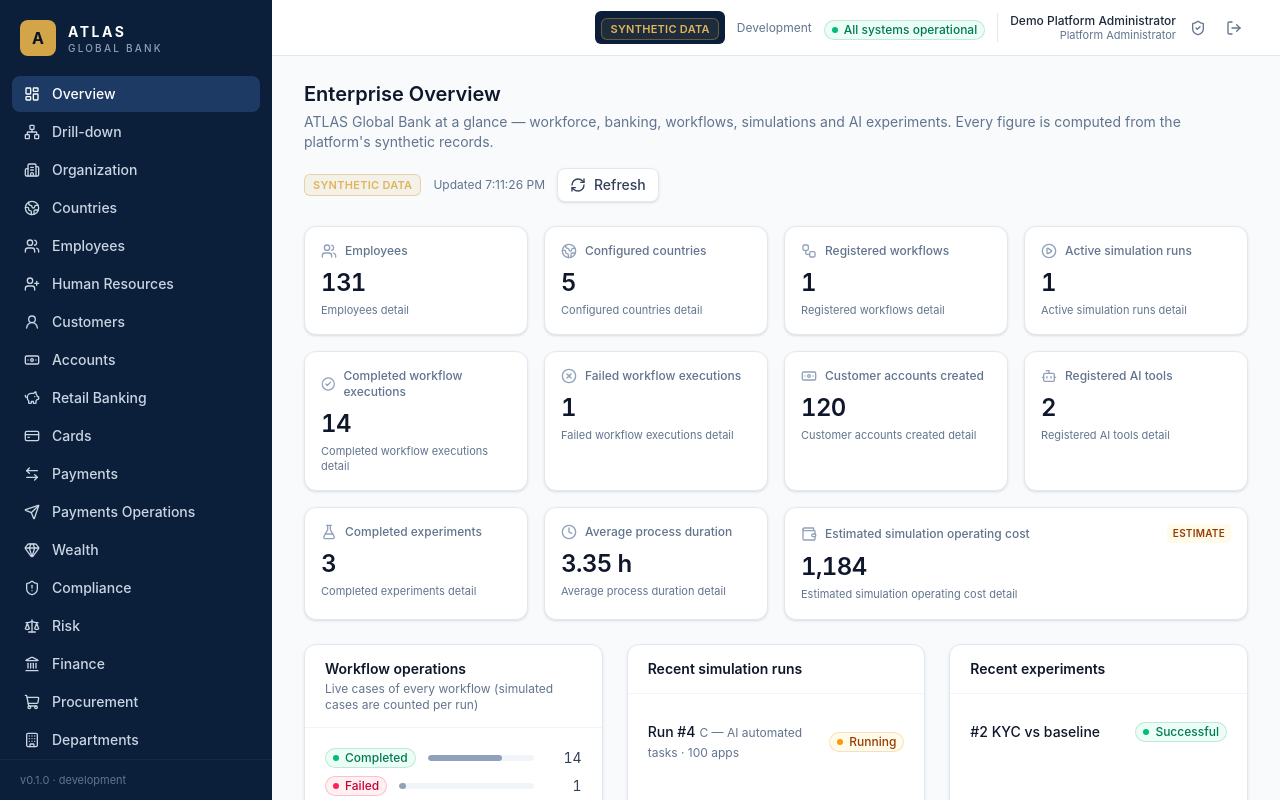
Security page (Phase 84) › is reachable from the user menu
What coordinates should you click on to do the following:
click the link named "Security"
I would click on:
 (1198, 28)
Its box is [1190,20,1206,36].
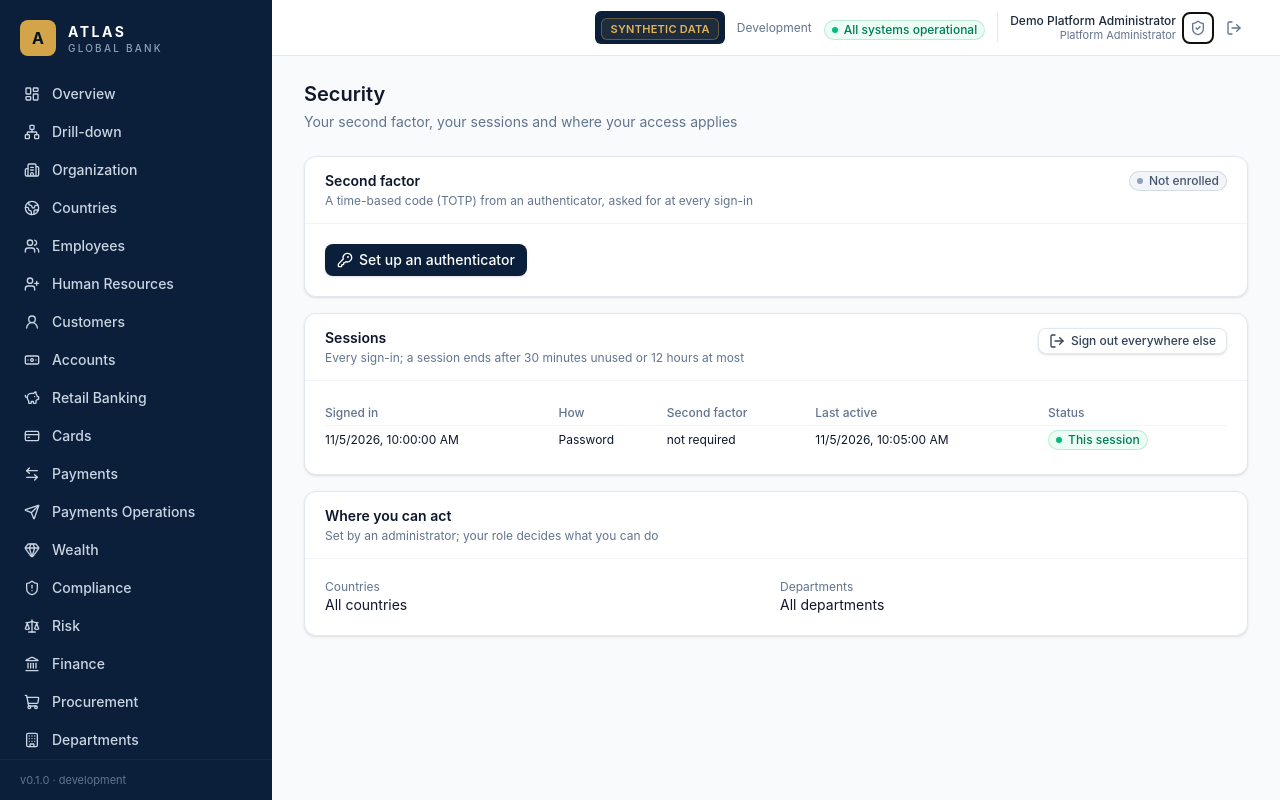
Expected: the heading "Security" is shown, [304,82,385,106]
Expected: the text named "Country scope" reads "All countries", [325,596,407,613]
